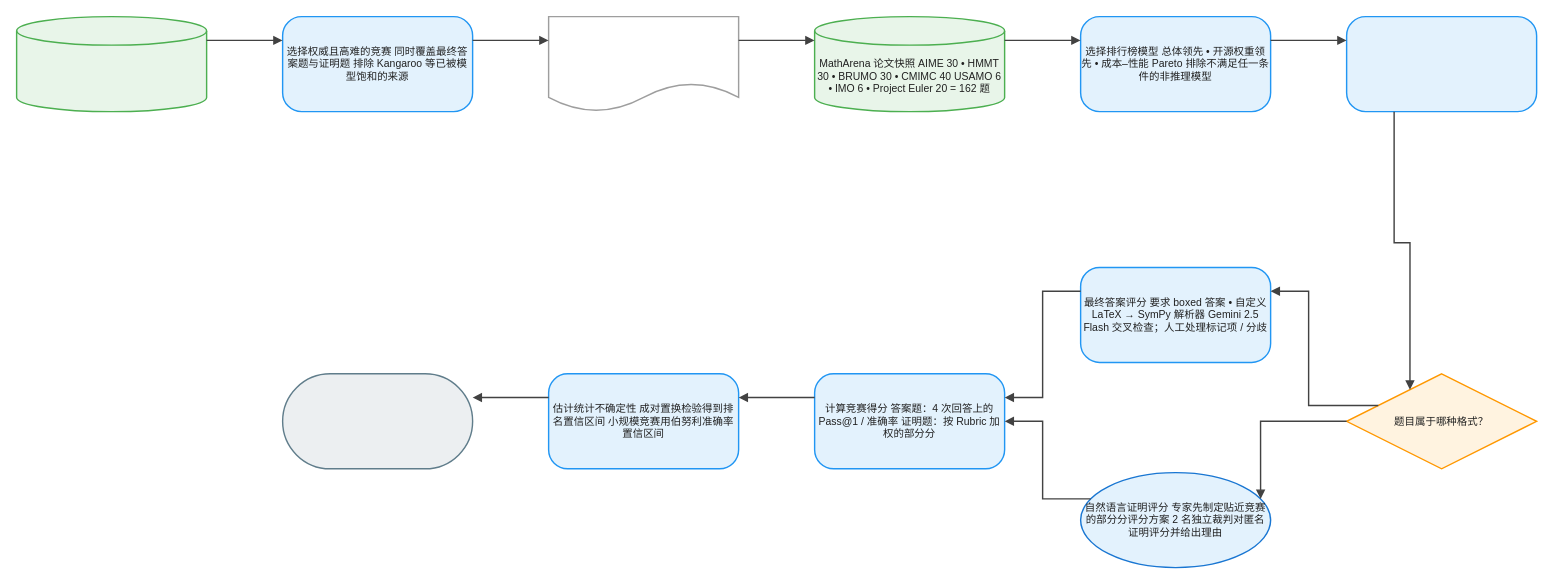
Image size: 1554x585. Some labels were removed from this diagram. The shapes that lost their labels are listed below. From the top down, each one's centre as x and y in pixels, then its label:
the point at 111,63: 监控定期举办的数学竞赛 使用刚发布且经主办方审核的题目 保留竞赛日期以追踪污染风险
the point at 643,63: 从原始来源提取 统一题目与解答模板 人工检查错字、不一致与格式问题
the point at 1441,63: 在竞赛发布附近生成解答 使用供应商推荐设置 • 不额外调参 每题 4 个回答；标记竞赛后发布的模型
the point at 377,421: 发布 MathArena 结果 公开排行榜 + 单条模型回答 竞赛得分、排名区间、成本与发布日期警告
